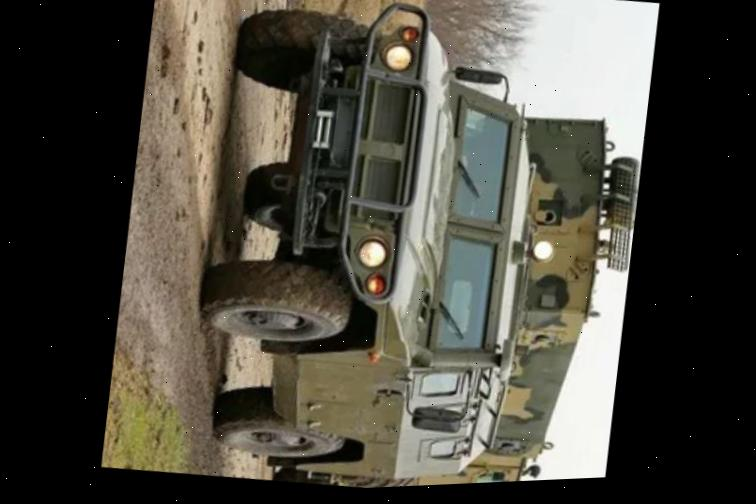armored_car: (175, 0, 586, 496)
truck: (268, 78, 649, 492)
